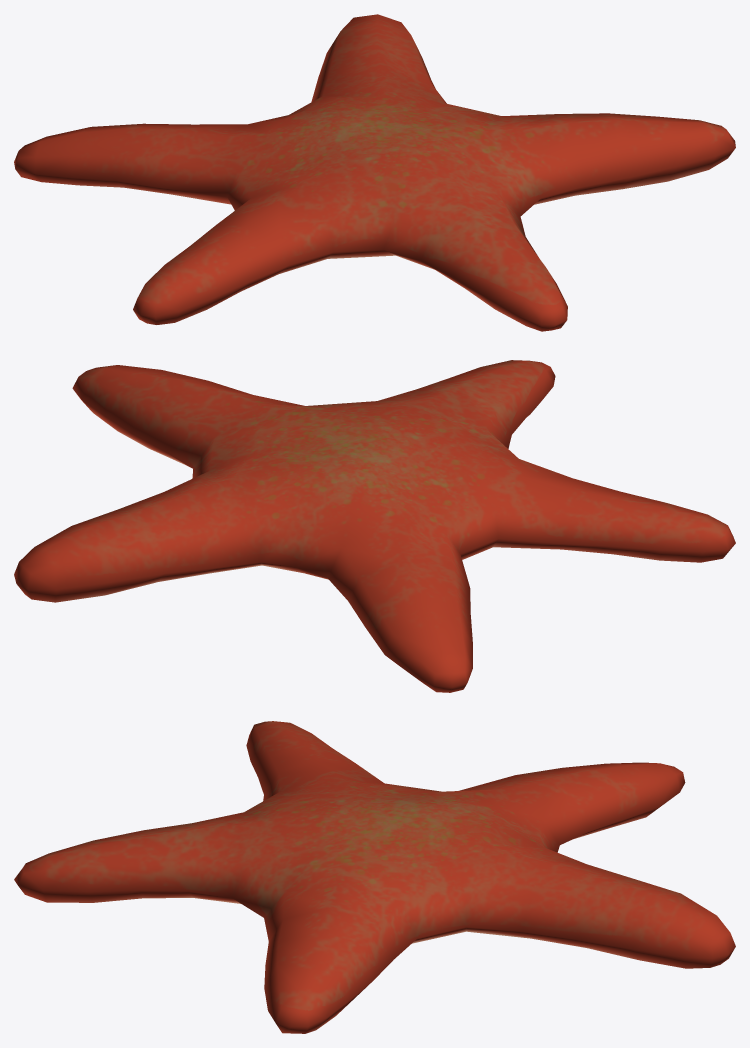
File: starfish.obj
3 views of the same model, one above another, from view 1: azimuth 30°, elevation 25°; view 2: azimuth 150°, elevation 25°; view 3: azimuth 270°, elevation 25° (orthographic). The views are drawn at different scales.
Visible parts, largest first — view 1: LP_Material.001_0; view 2: LP_Material.001_0; view 3: LP_Material.001_0.
Boxes of the visible parts, x1,y1,x2,y2 form: LP_Material.001_0: (14, 14, 735, 331); LP_Material.001_0: (14, 360, 735, 692); LP_Material.001_0: (14, 721, 735, 1033).
Size of the model in its own units: 0.2078 by 0.0277 by 0.2033.
Materials: 1 (1 with a texture image).
